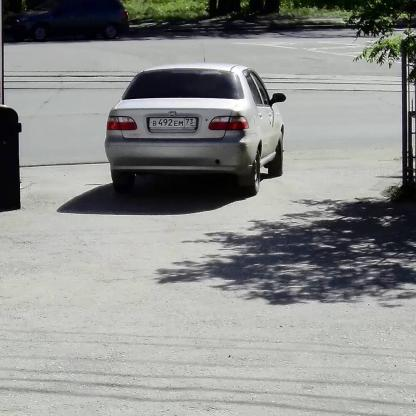plate: (150, 118, 196, 128)
